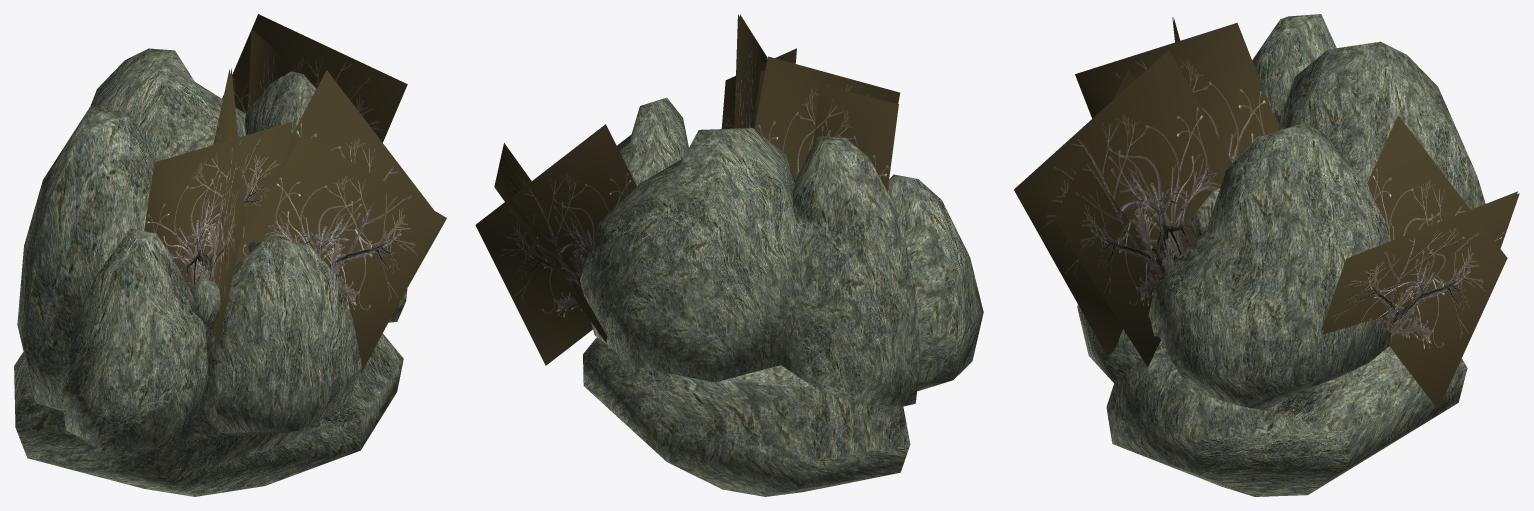
The model's file is poi_all_lair_rocks_large_l0.fbx.
The picture shows the model from 3 angles, left to right: view 1: azimuth 30°, elevation 25°; view 2: azimuth 150°, elevation 25°; view 3: azimuth 270°, elevation 25°; orthographic projection. The views are drawn at different scales.
Visible parts, largest first — view 1: mesh_node; view 2: mesh_node; view 3: mesh_node.
Part boxes in pixels (x1,y1,x2,y2): mesh_node: (14,14,446,496); mesh_node: (475,14,983,496); mesh_node: (1014,14,1519,496).
Size of the model in its own units: 6.28 by 6.21 by 6.18.
